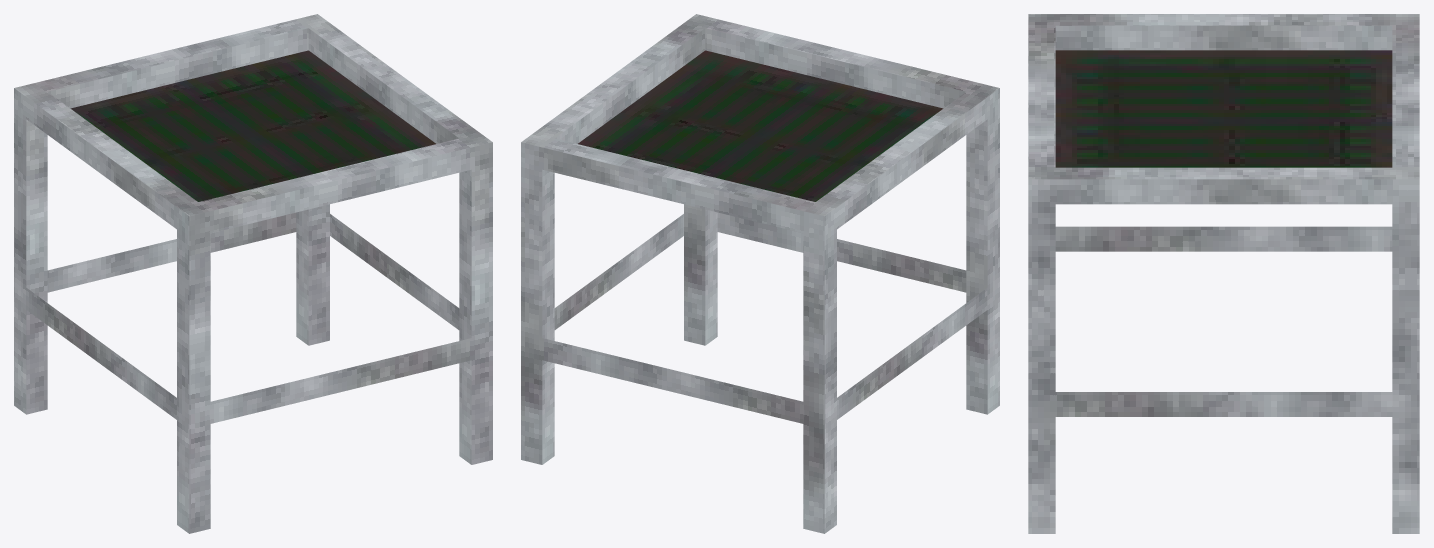
Rendered from byggstallning.glb.
The picture shows the model from 3 angles, left to right: view 1: azimuth 30°, elevation 25°; view 2: azimuth 150°, elevation 25°; view 3: azimuth 270°, elevation 25°; orthographic projection. The views are drawn at different scales.
Parts seen in each view (by area): view 1: scaffolding-structure; view 2: scaffolding-structure; view 3: scaffolding-structure.
Boxes of the visible parts, x1,y1,x2,y2 form: scaffolding-structure: [14, 14, 492, 533]; scaffolding-structure: [521, 14, 999, 533]; scaffolding-structure: [1028, 14, 1419, 533].
Bounding box in the file's own units: 1 × 1 × 1.
Materials: 2 (2 with a texture image).
